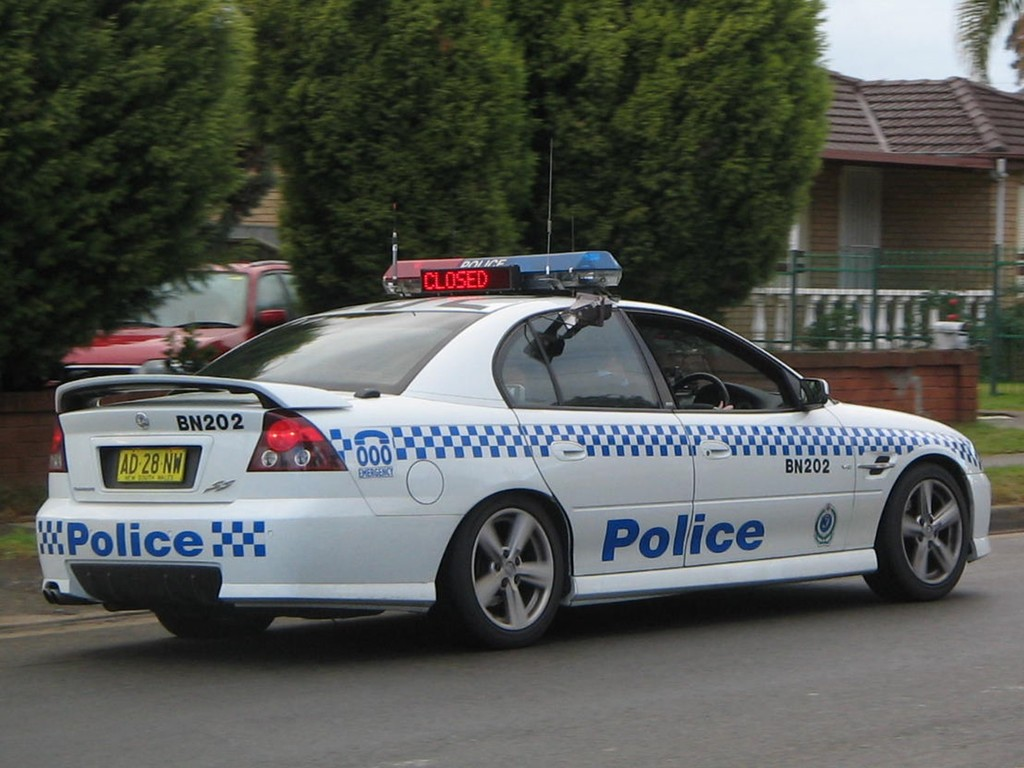mobil: (34, 258, 994, 662)
